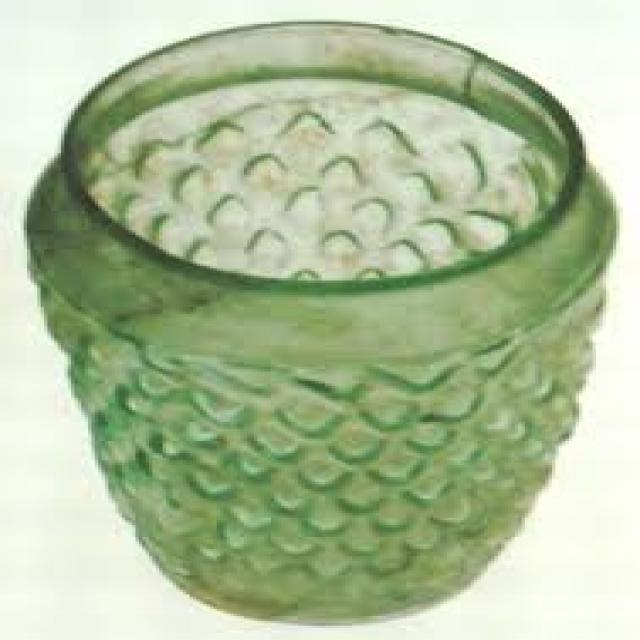Glass-Non-Biodegradable but Recyclable-: (25, 23, 622, 626)
